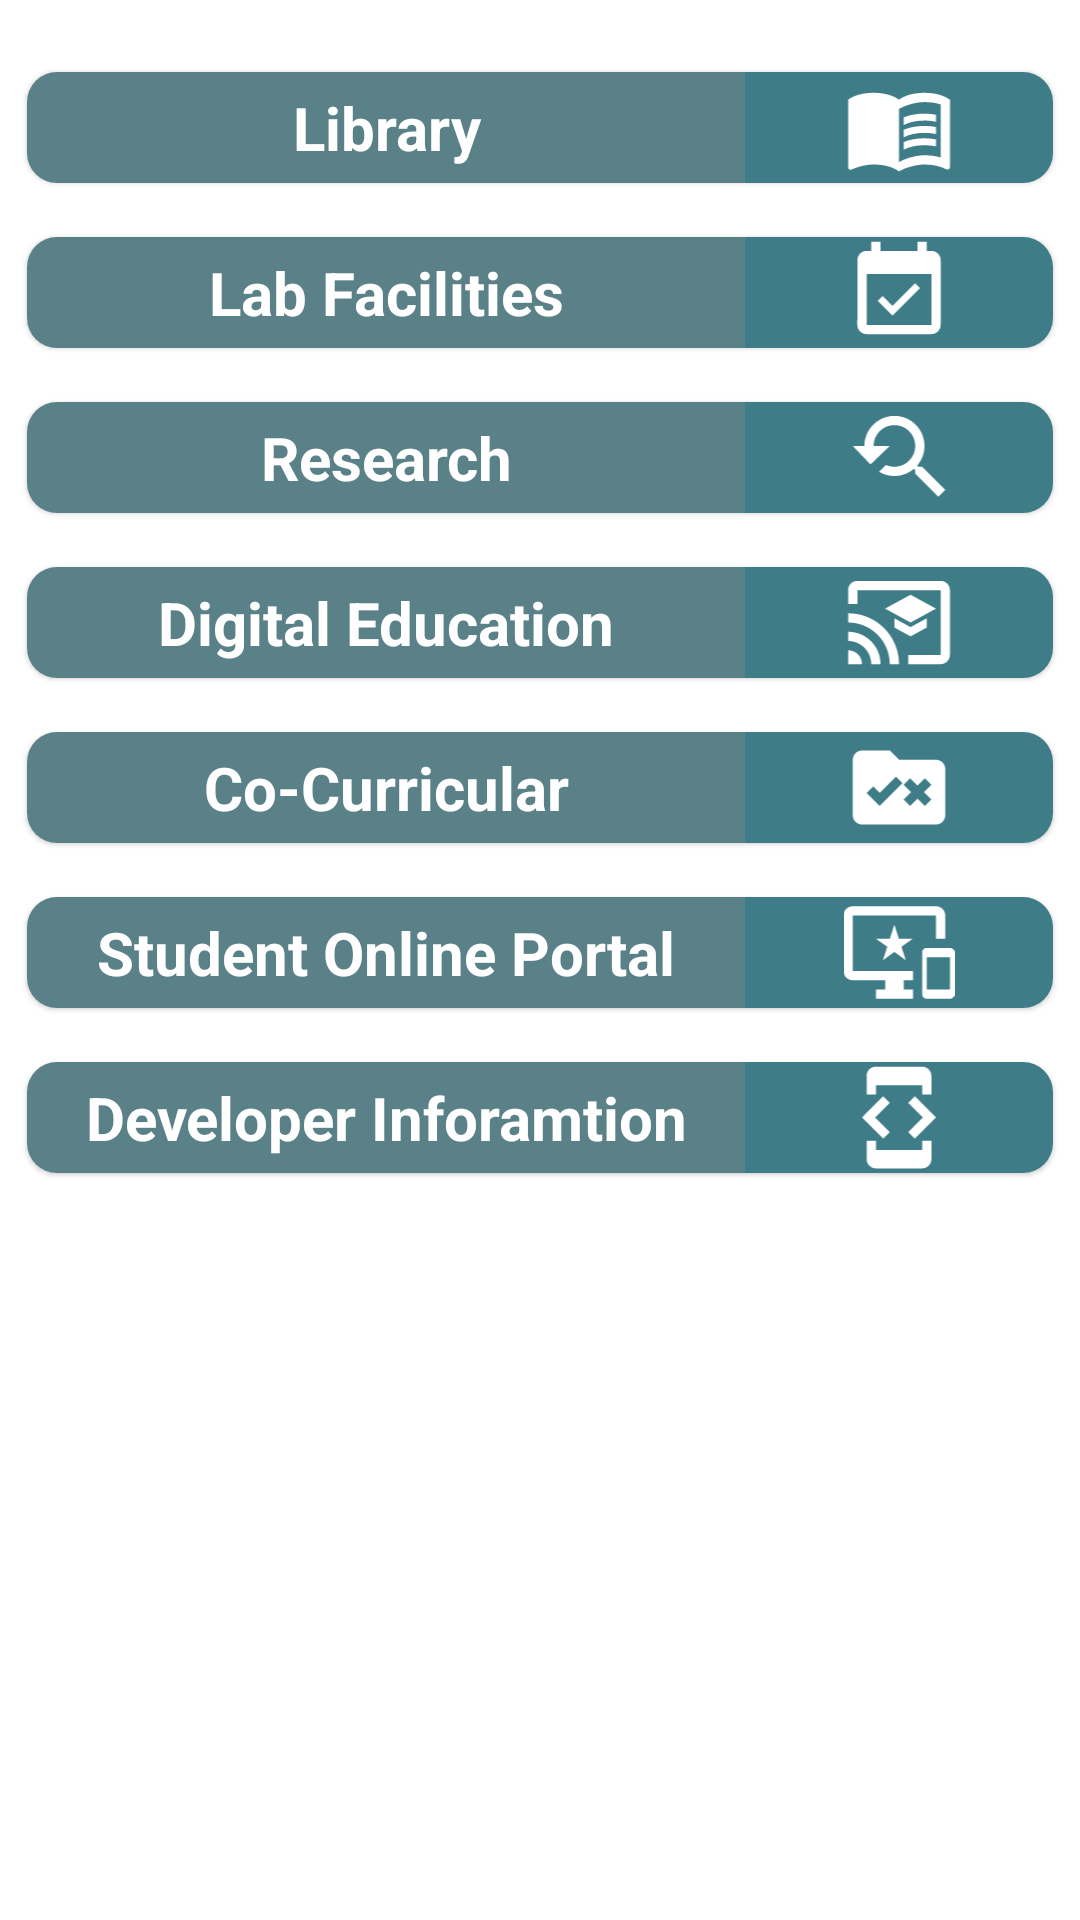

Where icons sit on this 1080*1920 app screen, as (x1, y1, x2, y2):
book: (745, 72, 1053, 183)
cast for education: (745, 567, 1053, 678)
developer mode: (745, 1062, 1053, 1173)
important devices: (745, 897, 1053, 1008)
rule folder: (745, 732, 1053, 843)
youtube searched for: (745, 402, 1053, 513)
